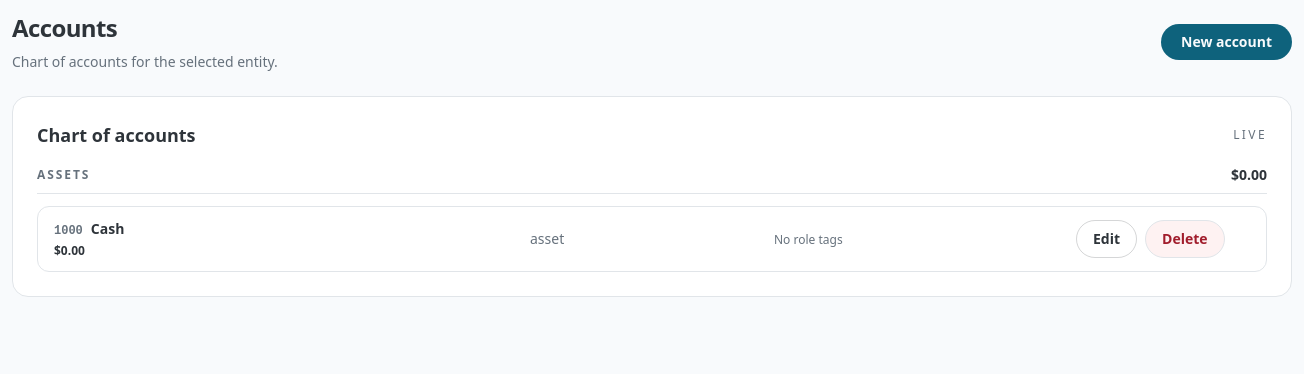
Test: Accounts page › edits an account successfully
Check: the text "Cash" is shown, box [91,219,124,239]
Click the button "Edit" at {"x": 1107, "y": 239}, box [1076,220,1137,258]
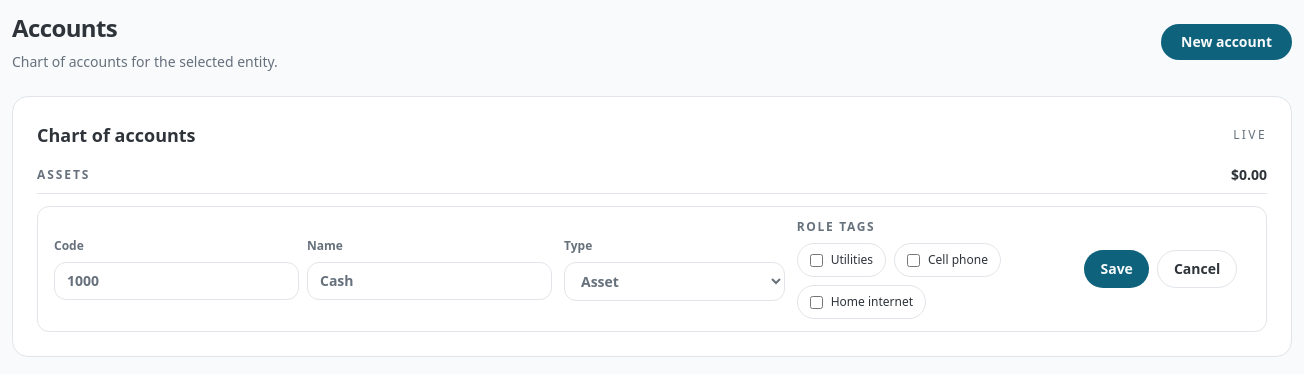
Check: the button "Save" is shown, box [1084,250,1149,288]
Replace the text in the field labelled "Name" with "Cash On Hand" at {"x": 430, "y": 281}, box [307,262,552,300]
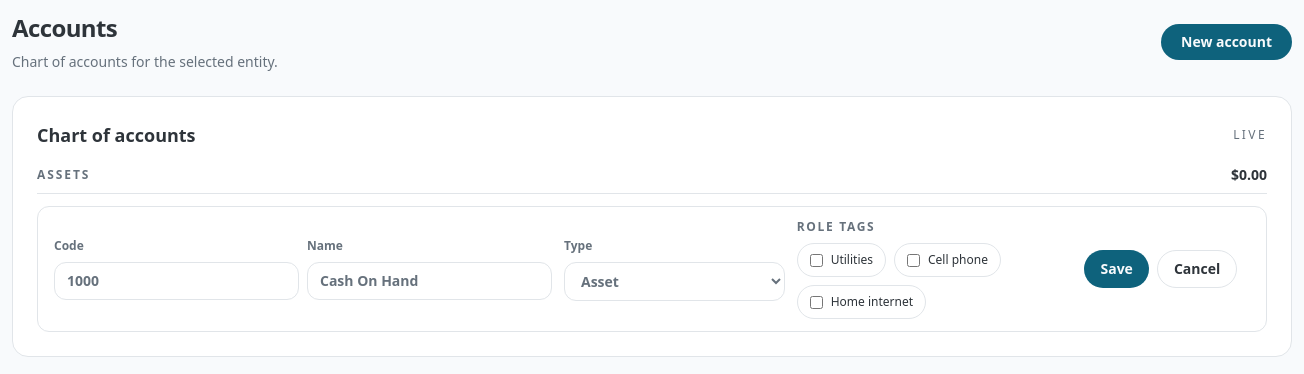
Select "Liability" in the dropdown labelled "Type" at {"x": 674, "y": 281}, box [564,262,785,300]
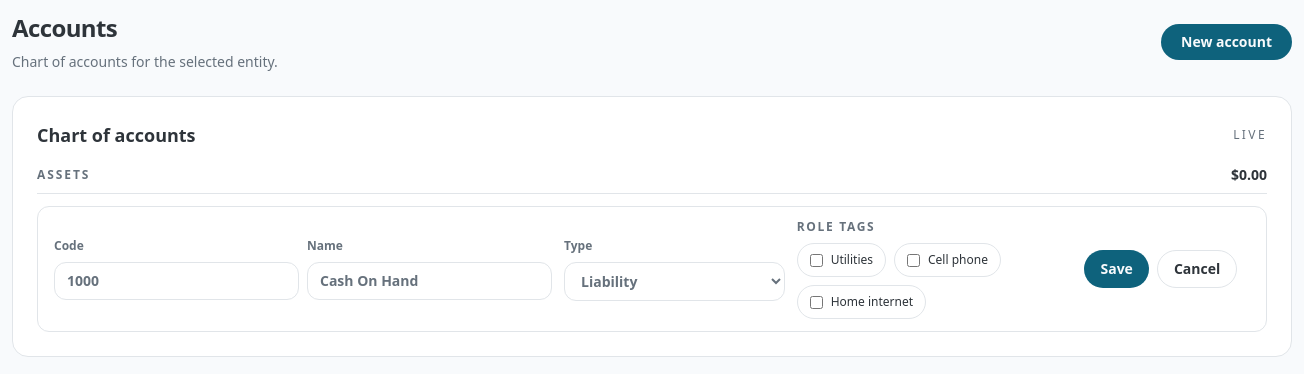
Click the button "Save" at {"x": 1117, "y": 269}, box [1084,250,1149,288]
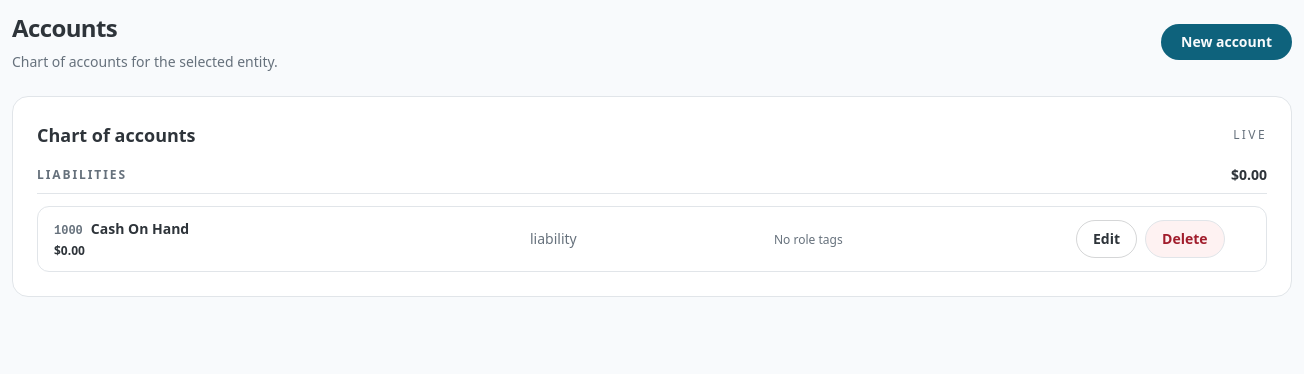
Check: the text "Cash On Hand" is shown, box [91,219,189,239]
